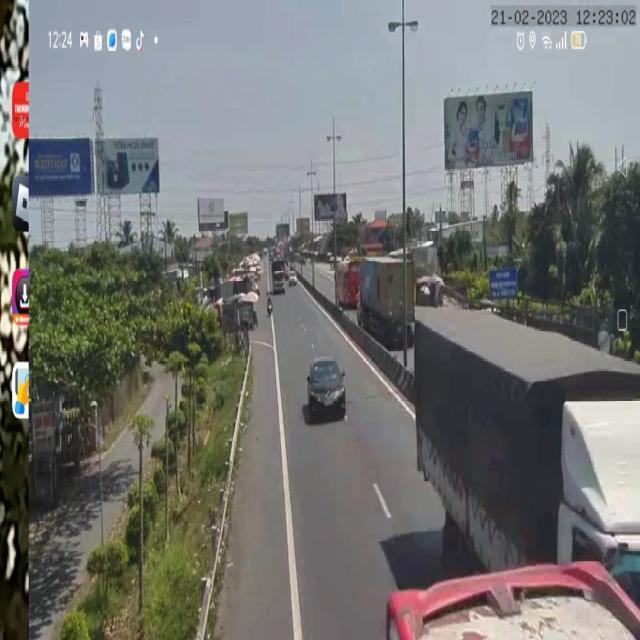bus: (335, 259, 362, 317)
car: (305, 356, 348, 423)
truck: (414, 305, 640, 611), (357, 258, 418, 354)
